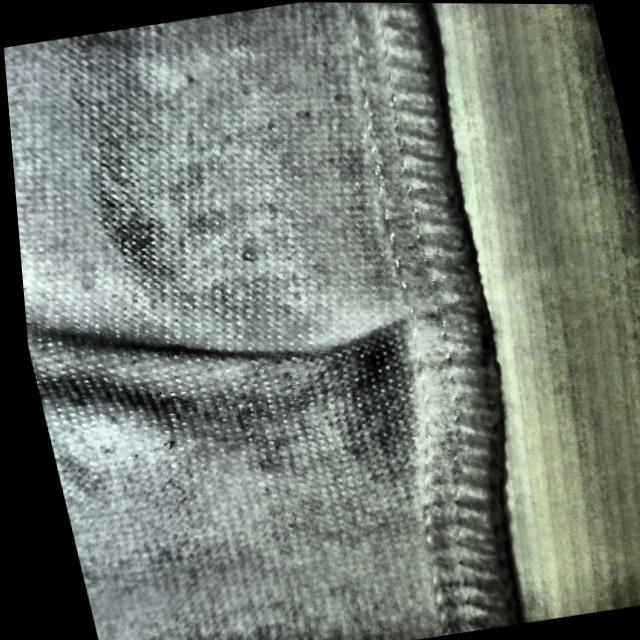seam: (149, 267, 502, 446)
